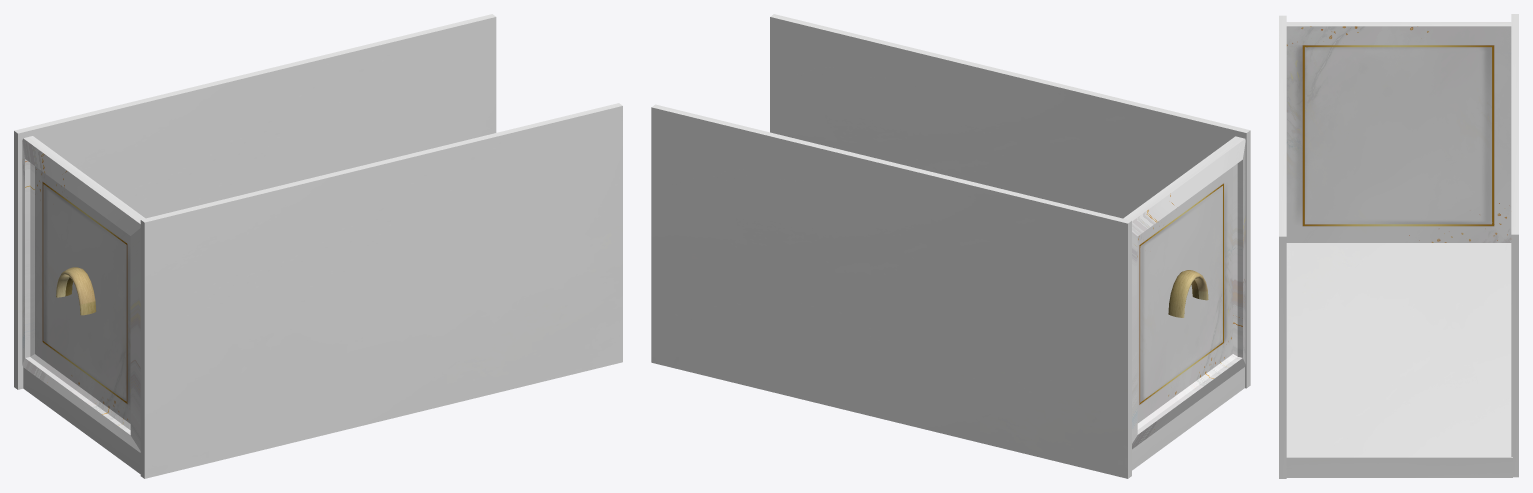
The model's file is CajonIzq.obj.
The picture shows the model from 3 angles, left to right: view 1: azimuth 30°, elevation 25°; view 2: azimuth 150°, elevation 25°; view 3: azimuth 270°, elevation 25°; orthographic projection. The views are drawn at different scales.
Visible parts, largest first — view 1: CajonIzq; view 2: CajonIzq; view 3: CajonIzq.
Boxes of the visible parts, bbox=[...] form: CajonIzq: bbox=[14, 14, 622, 478]; CajonIzq: bbox=[651, 14, 1250, 478]; CajonIzq: bbox=[1279, 14, 1518, 478].
Bounding box in the file's own units: 4.28 × 2.14 × 1.92.
Materials: 2 (2 with a texture image).
